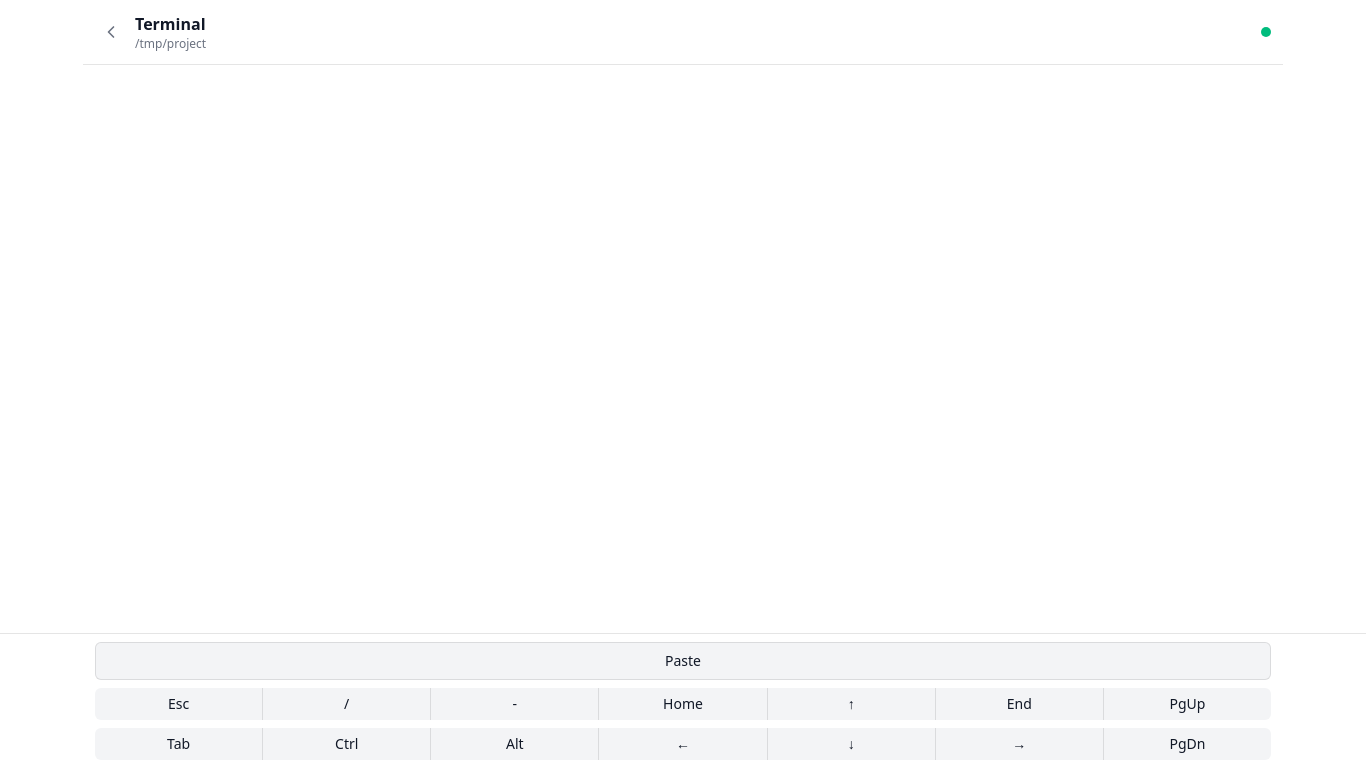
Scenario: TerminalPage paste behavior › opens manual paste dialog when clipboard read fails
Click the button "Paste": (683, 661) [95,642,1271,680]
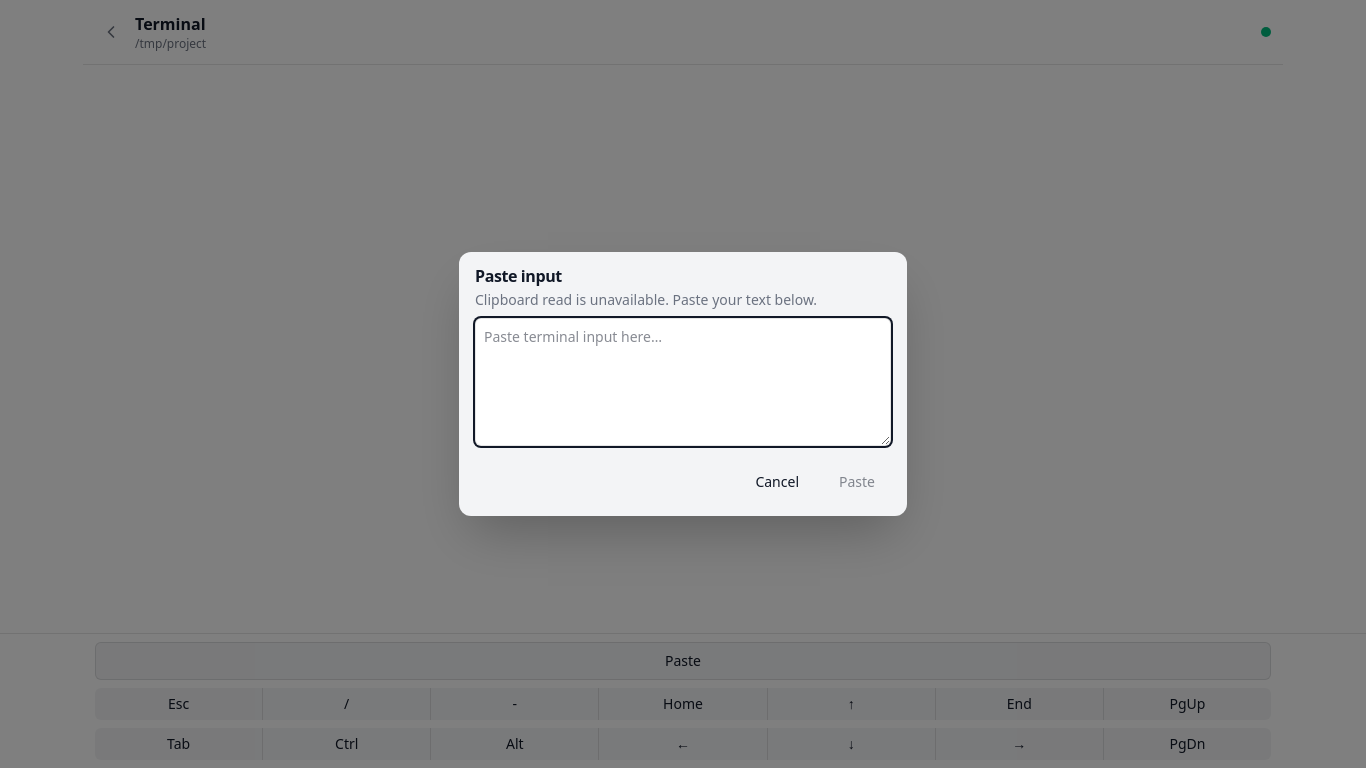
Expected: the heading "Paste input" is shown, [475,265,562,287]
